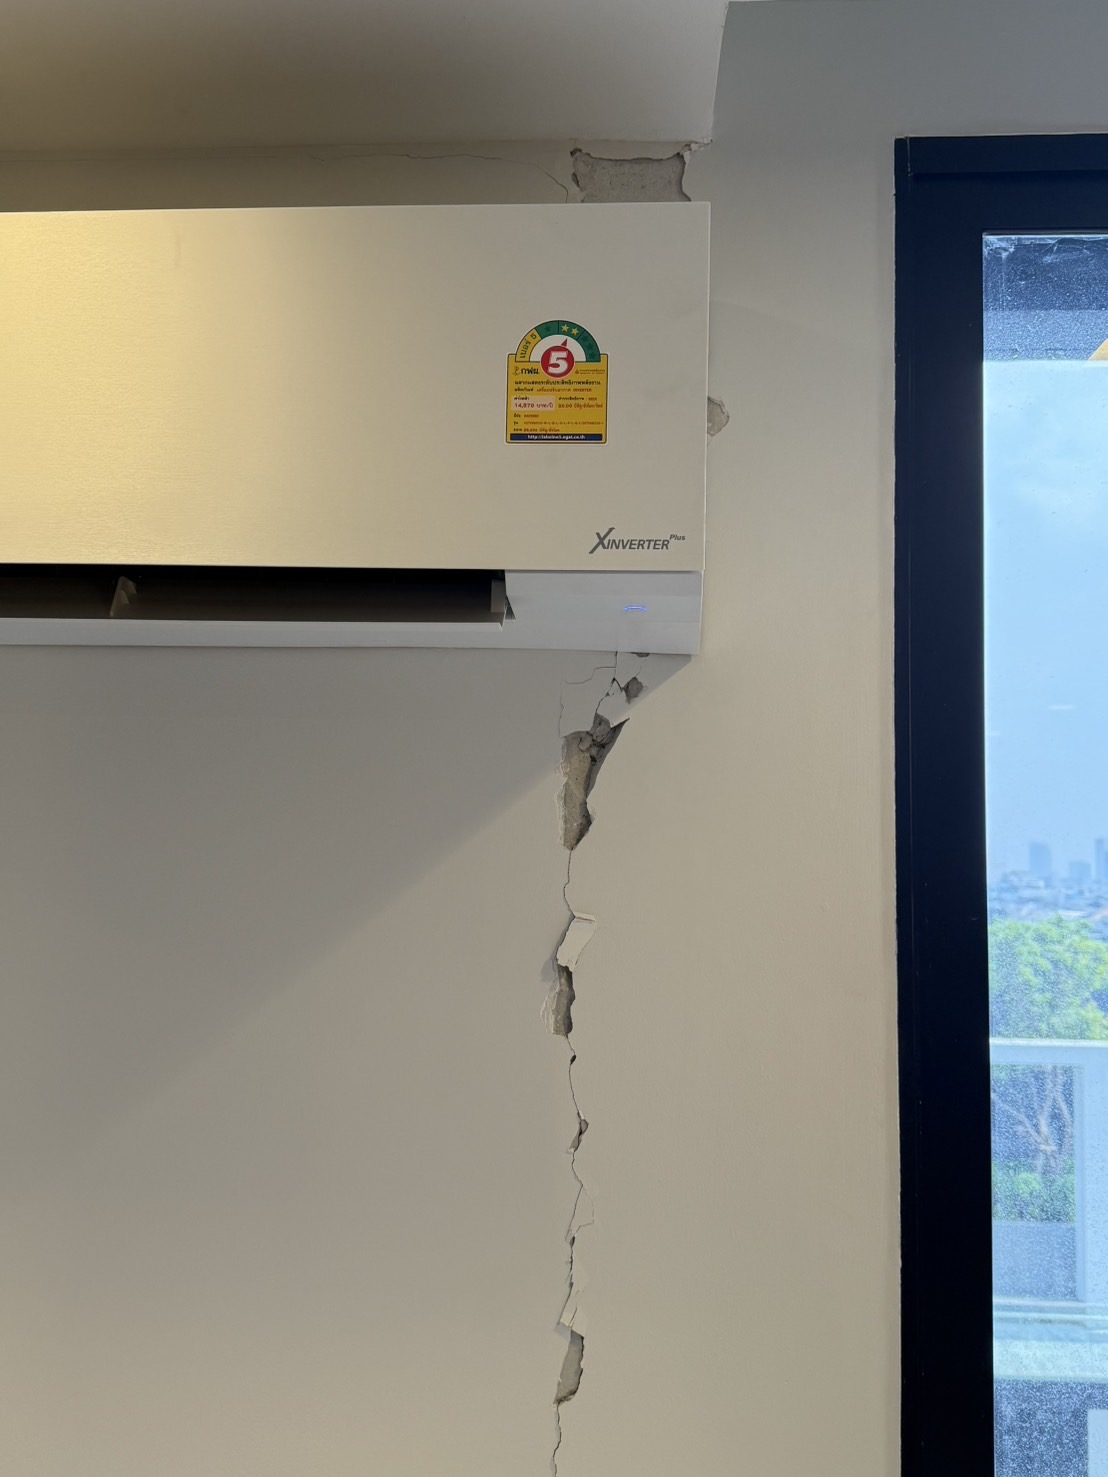Low: (466, 638, 747, 1477)
